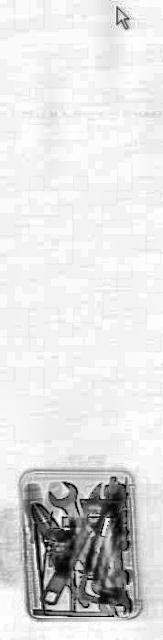Pliers: (28, 484, 92, 608)
Wrench: (46, 445, 114, 615), (37, 472, 107, 624)
